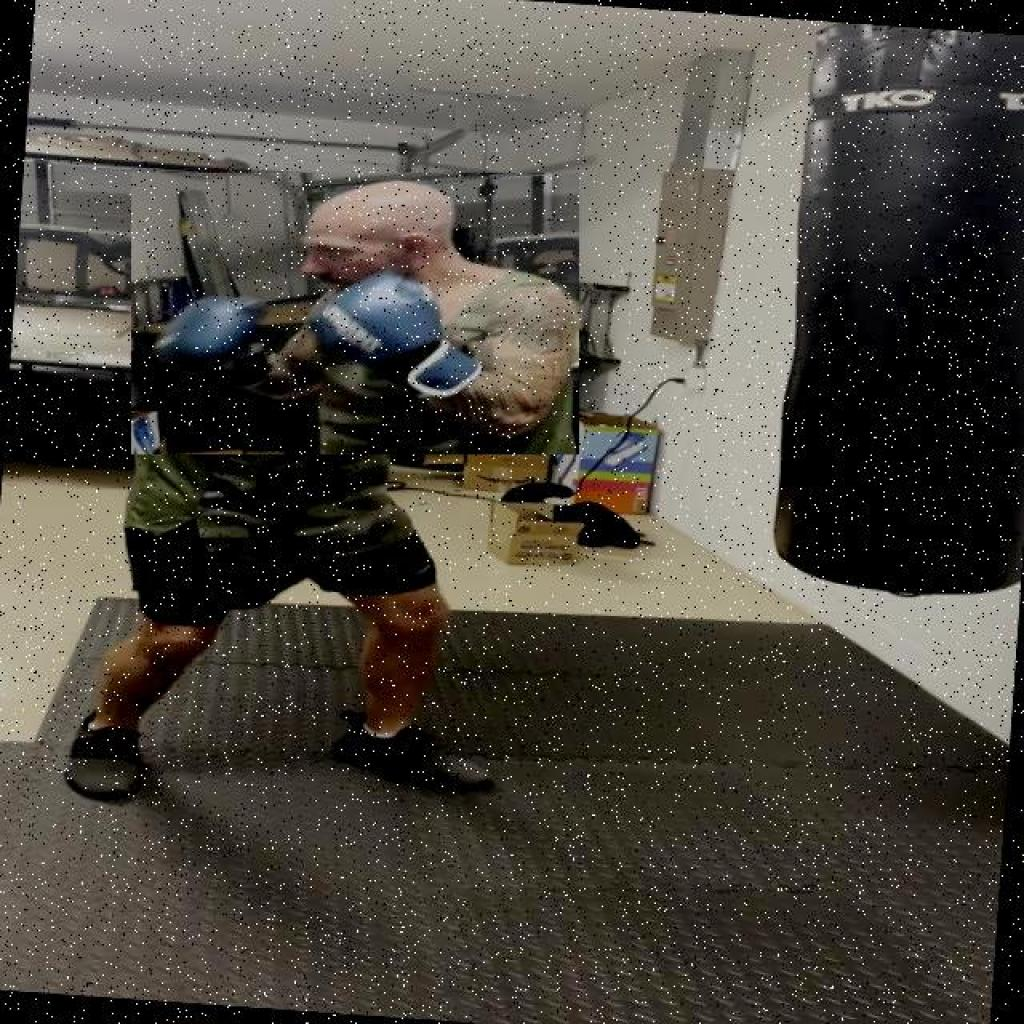bag: (758, 20, 1024, 602)
no punch: (131, 173, 580, 455)
